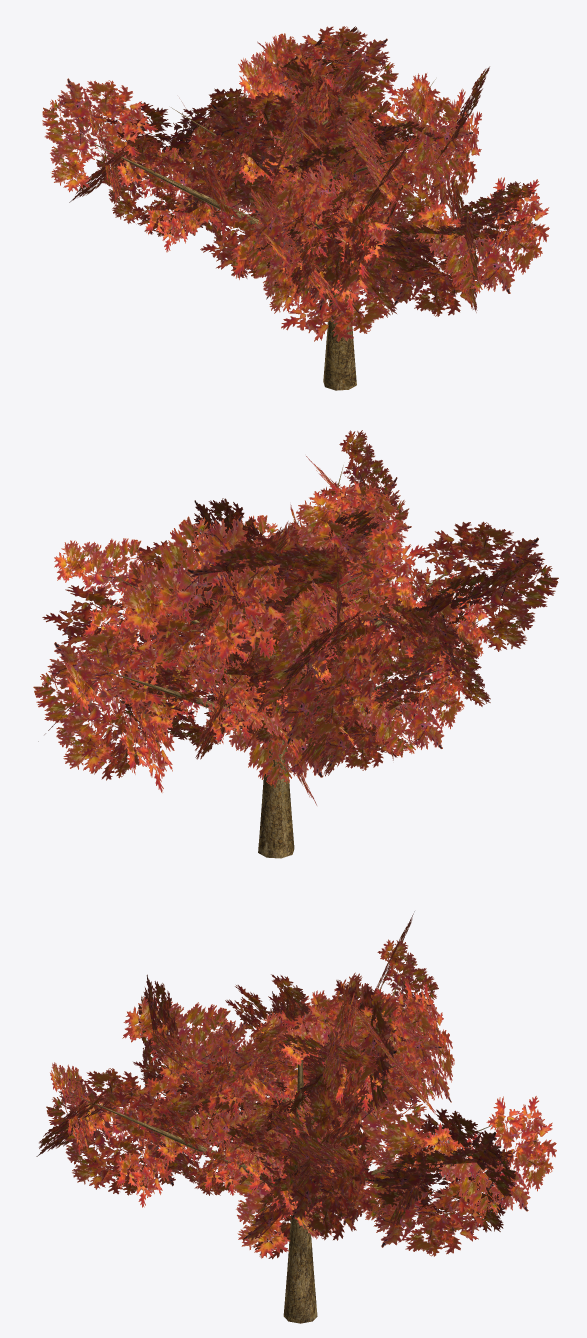
The model's file is Tree03.FBX.
The picture shows the model from 3 angles, top to bottom: view 1: azimuth 30°, elevation 25°; view 2: azimuth 150°, elevation 25°; view 3: azimuth 270°, elevation 25°; orthographic projection. The views are drawn at different scales.
Visible parts, largest first — view 1: Plane22, Plane12, Plane42, Plane53, Plane19, Plane61, Plane75, Plane49, Plane38, Plane34, Plane48, Plane54 (+37 smaller); view 2: Plane68, Plane32, Plane57, Plane42, Plane72, Plane10, Plane28, Plane50, Plane66, Plane31, Plane12, Plane49 (+29 smaller); view 3: Plane33, Plane30, Plane21, Plane49, Plane62, Plane17, Plane31, Plane32, Plane41, Cylinder01, Plane57, Plane20 (+37 smaller).
Part boxes in pixels (x1,y1,x2,y2): Plane22: [414, 177, 549, 294]; Plane12: [42, 78, 157, 192]; Plane42: [245, 178, 335, 313]; Plane53: [201, 93, 340, 219]; Plane19: [377, 183, 486, 316]; Plane61: [324, 89, 432, 207]; Plane75: [280, 26, 398, 112]; Plane49: [407, 73, 481, 213]; Plane38: [270, 159, 394, 281]; Plane34: [281, 229, 410, 341]; Plane48: [376, 82, 473, 194]; Plane54: [168, 91, 310, 203]; Plane68: [119, 515, 287, 663]; Plane32: [33, 626, 179, 773]; Plane57: [263, 591, 390, 744]; Plane42: [416, 521, 558, 651]; Plane72: [293, 490, 425, 618]; Plane10: [343, 642, 465, 757]; Plane28: [145, 647, 258, 743]; Plane50: [54, 538, 157, 649]; Plane66: [187, 535, 336, 666]; Plane31: [64, 631, 174, 792]; Plane12: [392, 606, 490, 706]; Plane49: [42, 540, 199, 661]; Plane33: [423, 1096, 556, 1215]; Plane30: [359, 1122, 497, 1256]; Plane21: [46, 1068, 171, 1189]; Plane49: [282, 1089, 372, 1240]; Plane62: [159, 1014, 259, 1115]; Plane17: [157, 1106, 254, 1195]; Plane31: [368, 1143, 512, 1224]; Plane32: [416, 1108, 515, 1232]; Plane41: [122, 997, 241, 1128]; Cylinder01: [283, 1060, 317, 1323]; Plane57: [379, 978, 454, 1102]; Plane20: [80, 1085, 171, 1207].
Bounding box in the file's own units: 498 × 363 × 527.
Materials: 2 (2 with a texture image).
